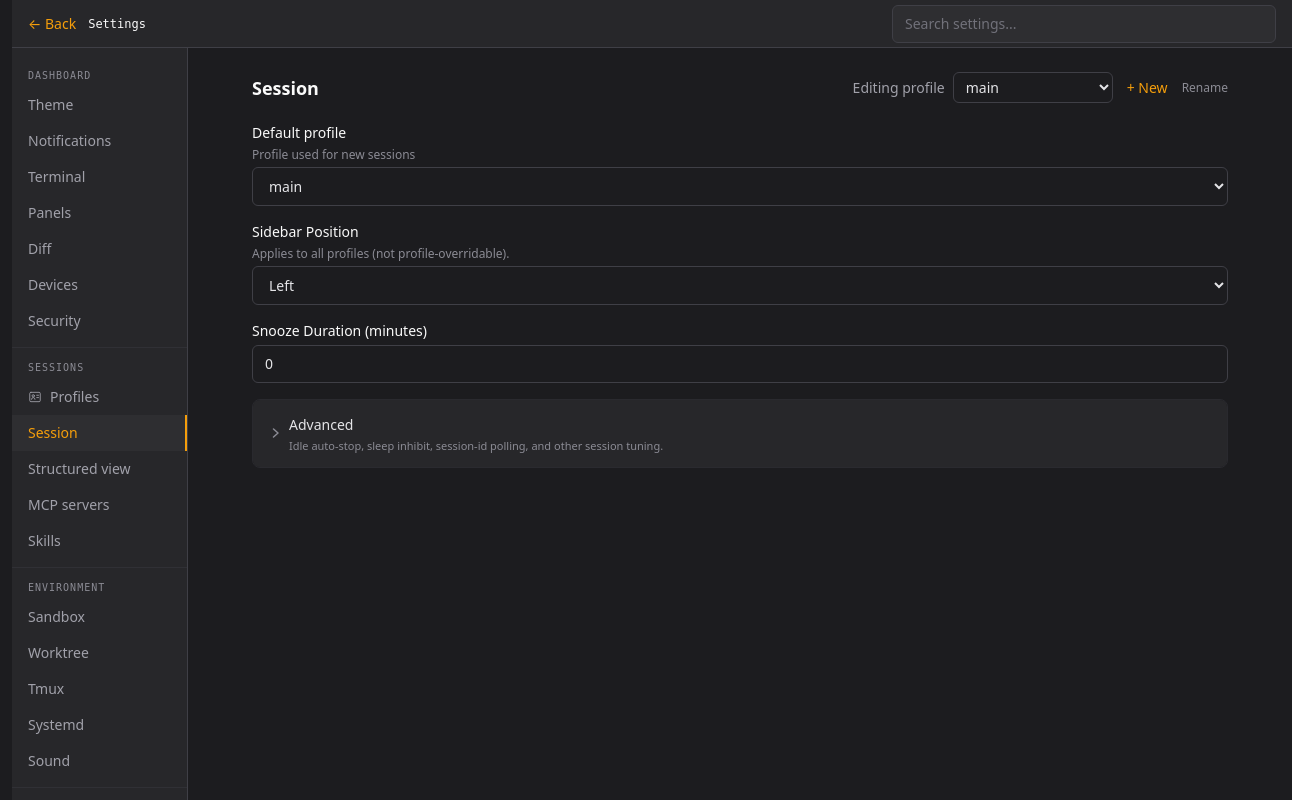
schema-driven settings field PATCH payloads › saves Sidebar Position for the selected profile and reloads the saved value after a failed edit
This screenshot has width=1292, height=800.
Expected: the text "Sidebar Position" is shown, [252,222,359,241]
Select "Right" in the dropdown below "Sidebar Position" at (740, 286), box [252,266,1228,305]
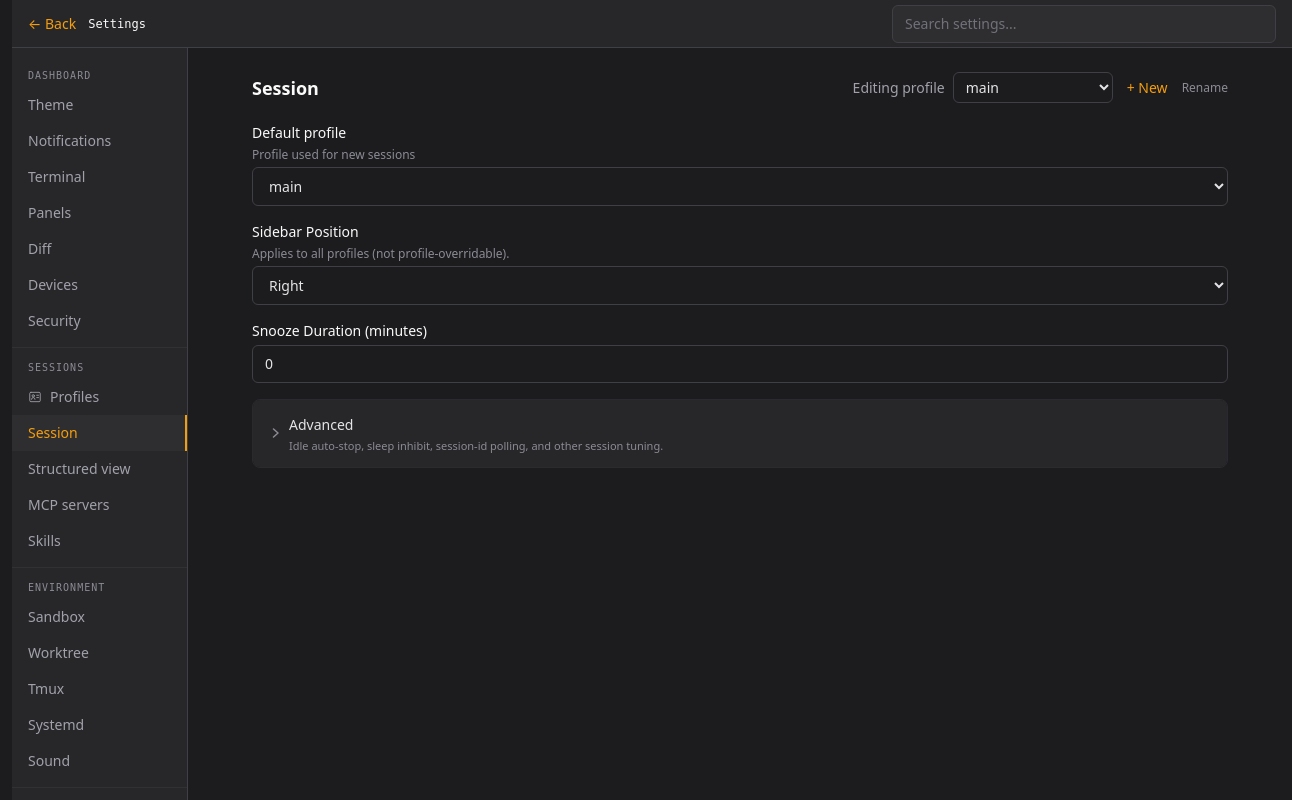
Select "Left" in the dropdown below "Sidebar Position" at (740, 286), box [252,266,1228,305]
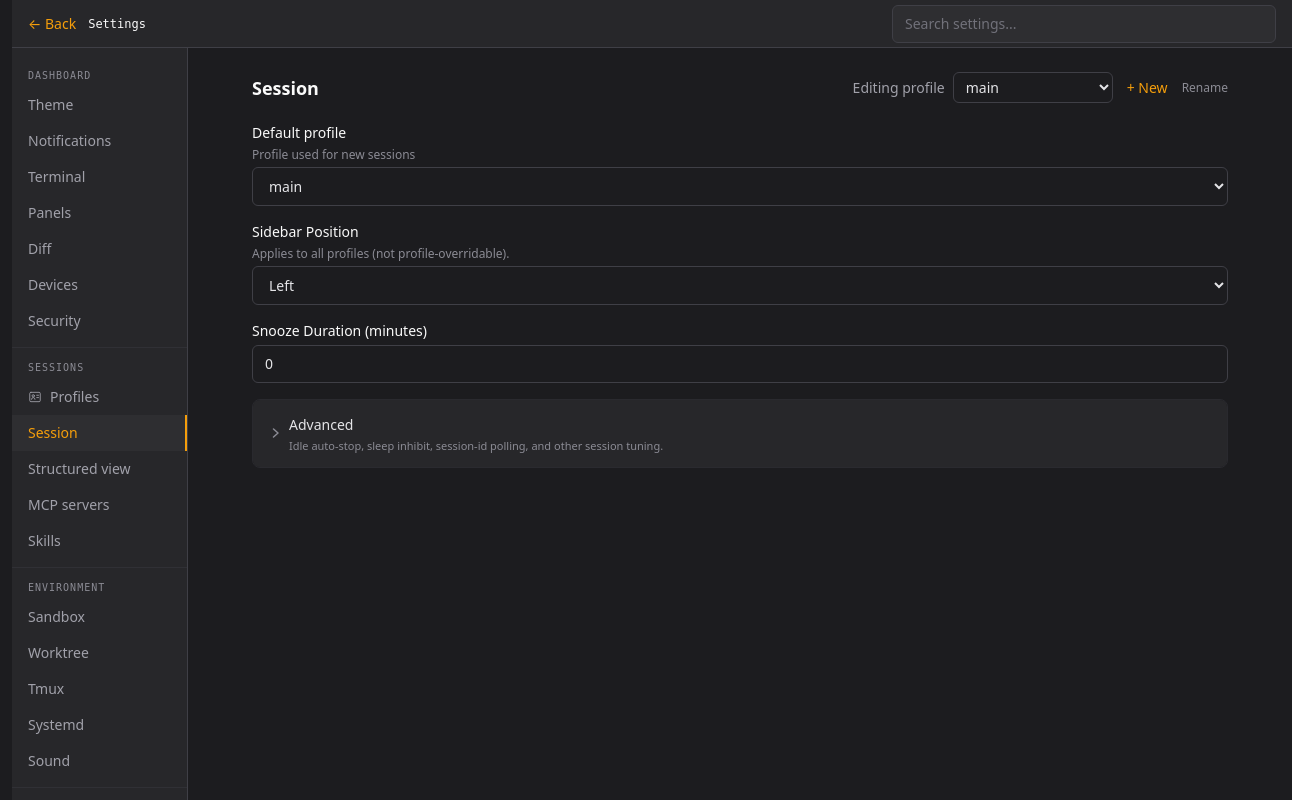
Select "Right" in the dropdown below "Sidebar Position" at (740, 286), box [252,266,1228,305]
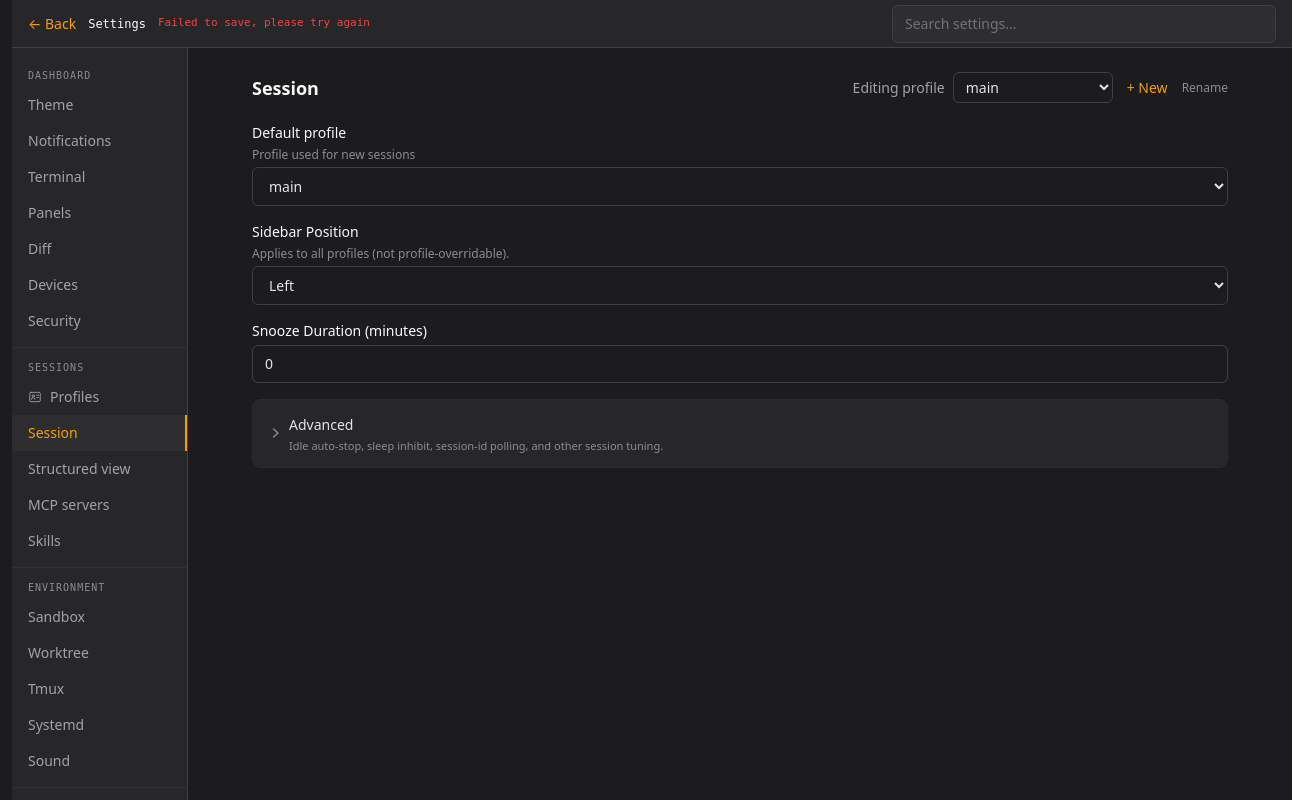
Result: the text "Failed to save, please try again" is shown at [158,15,370,32]
